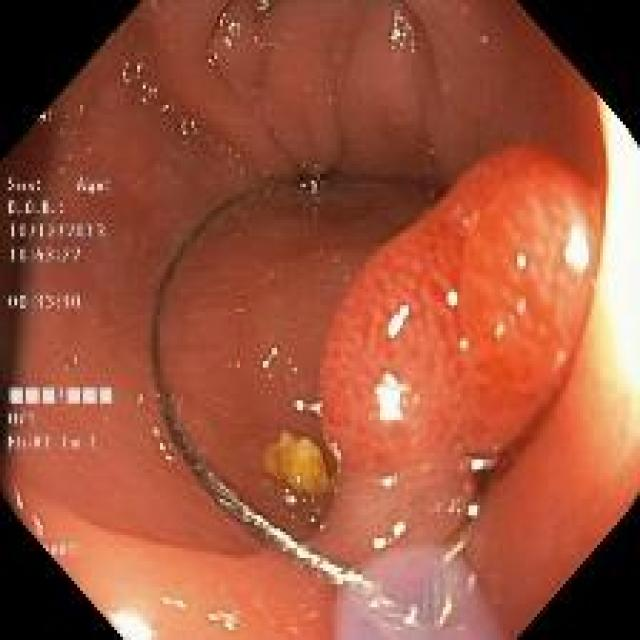Polyps: (311, 145, 602, 566)
